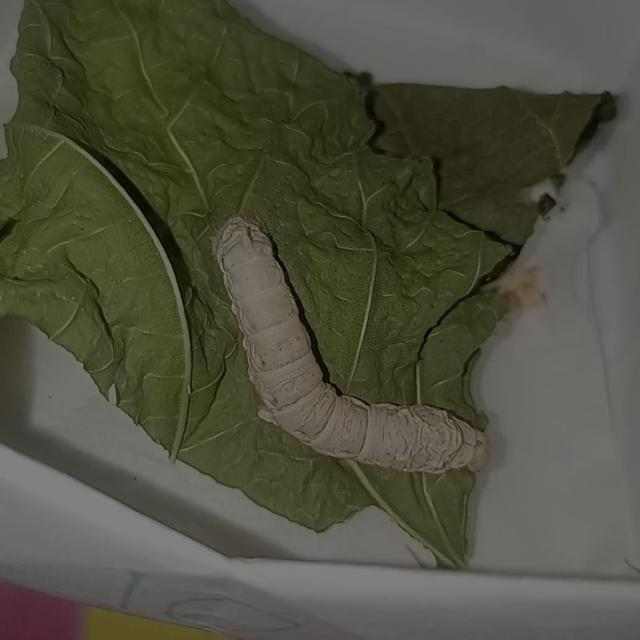Healthy: (194, 195, 503, 492)
